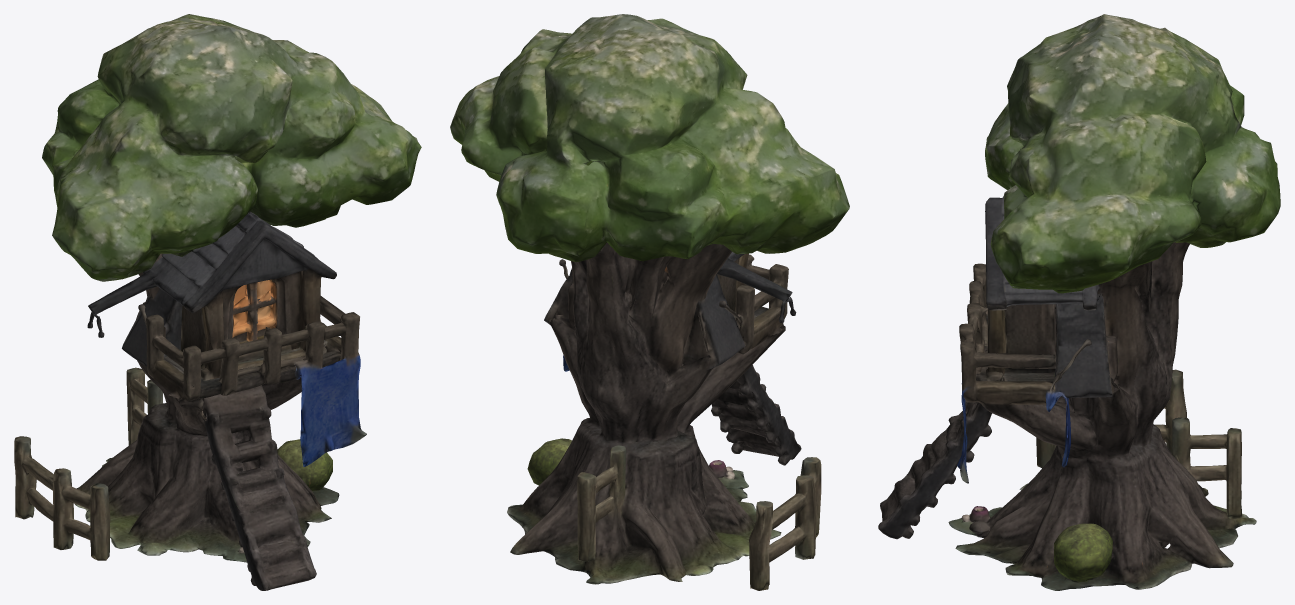
File: tree_house.glb
3 renders of one model, left to right at view 1: azimuth 30°, elevation 25°; view 2: azimuth 150°, elevation 25°; view 3: azimuth 270°, elevation 25°, orthographic. The views are drawn at different scales.
Parts seen in each view (by area): view 1: tree_house_s7_fit; view 2: tree_house_s7_fit; view 3: tree_house_s7_fit.
Boxes of the visible parts, box(x1,y1,x2,y2) form: tree_house_s7_fit: box(14, 14, 421, 590); tree_house_s7_fit: box(450, 14, 849, 590); tree_house_s7_fit: box(878, 14, 1280, 590).
Bounding box in the file's own units: 3.84 × 5.03 × 3.62.
Materials: 1 (1 with a texture image).
